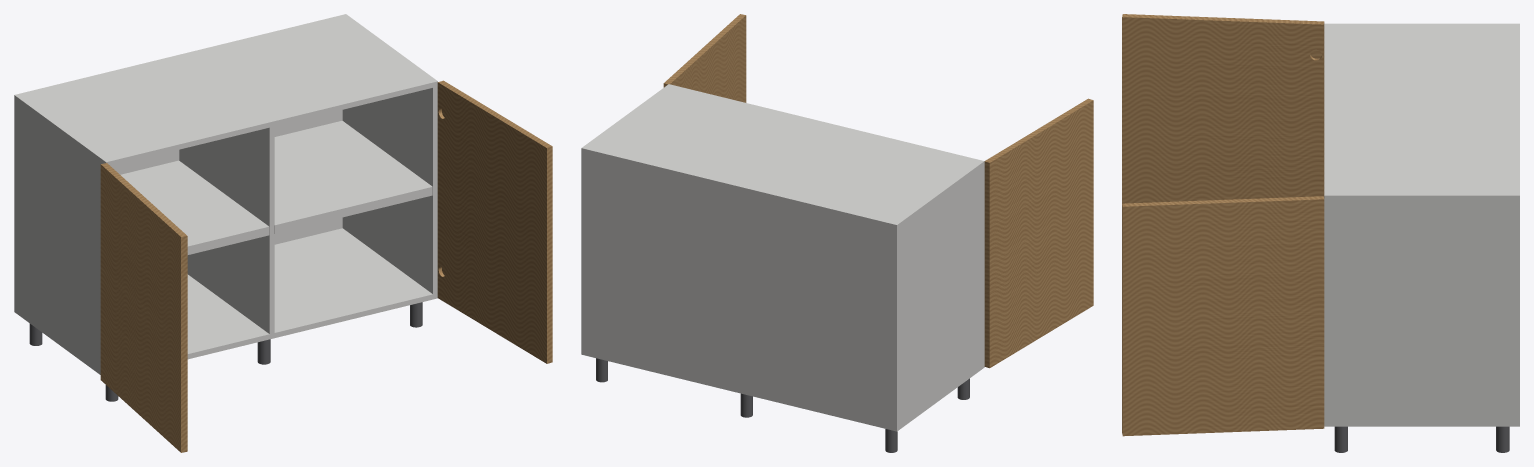
Rendered from w1200_inset_default_open.glb.
3 renders of one model, left to right at view 1: azimuth 30°, elevation 25°; view 2: azimuth 150°, elevation 25°; view 3: azimuth 270°, elevation 25°, orthographic. The views are drawn at different scales.
Visible parts, largest first — view 1: white, oak, leg; view 2: white, oak, leg; view 3: oak, white, leg.
Part boxes in pixels (<box>): white: <box>14,14,437,374</box>; oak: <box>100,80,552,452</box>; leg: <box>29,302,422,401</box>; white: <box>581,84,984,431</box>; oak: <box>663,14,1093,368</box>; leg: <box>596,358,969,452</box>; oak: <box>1122,14,1324,436</box>; white: <box>1324,23,1519,426</box>; leg: <box>1334,426,1509,452</box>.
Size of the model in its own units: 1.34 by 0.85 by 1.17.
3 materials, 1 textured.
